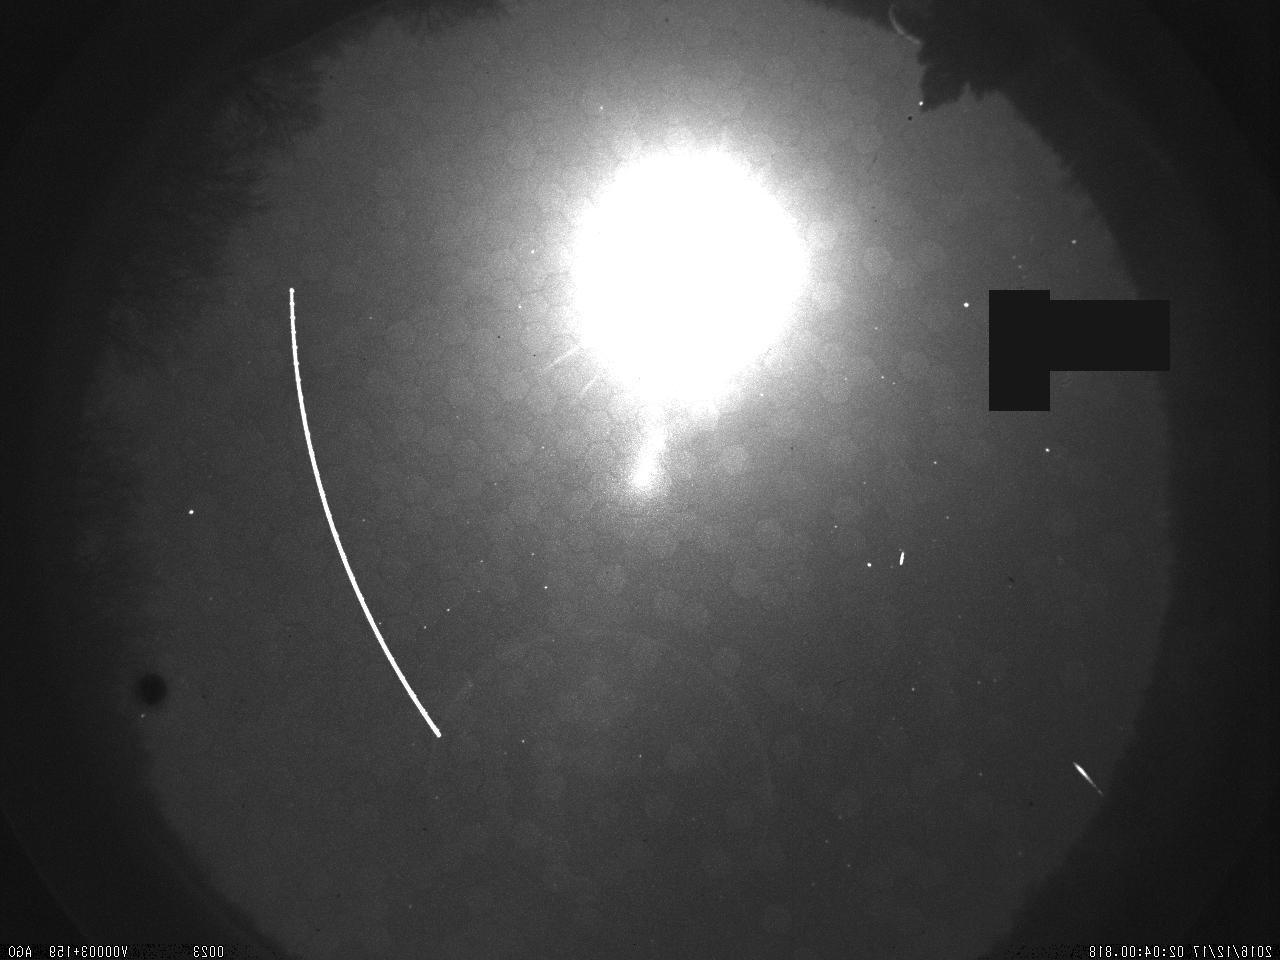meteor: (1061, 751, 1111, 804)
